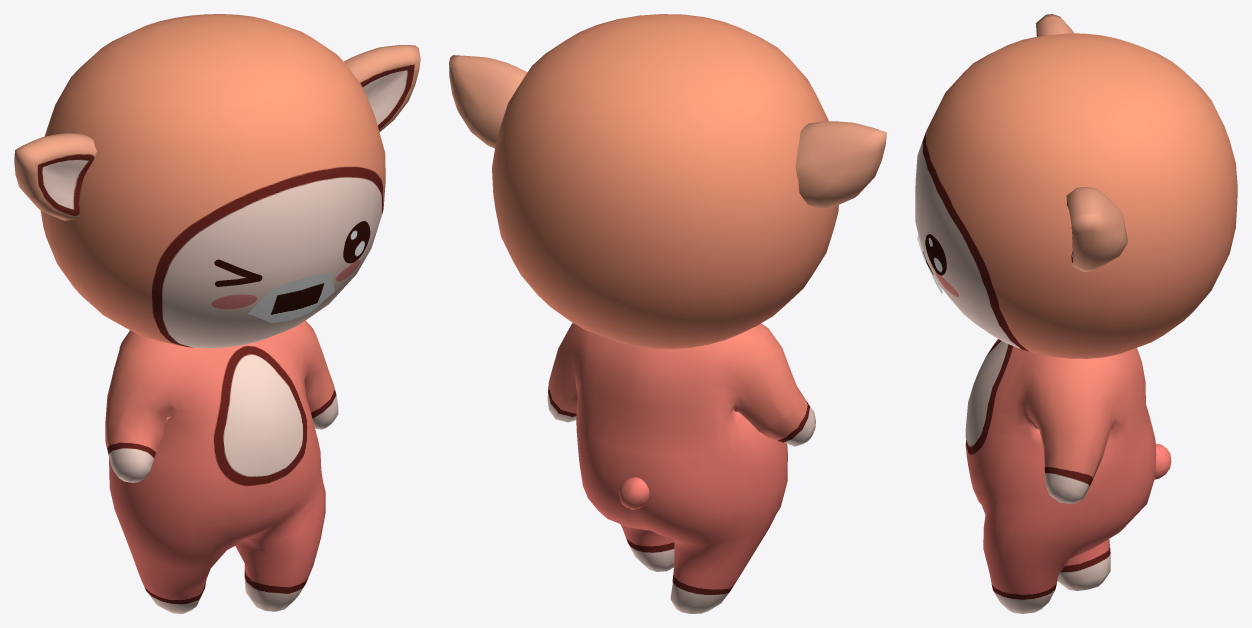
3 views of the same model, side by side, from view 1: azimuth 30°, elevation 25°; view 2: azimuth 150°, elevation 25°; view 3: azimuth 270°, elevation 25° (orthographic). The views are drawn at different scales.
Visible parts, largest first — view 1: DollBody; view 2: DollBody; view 3: DollBody.
Part boxes in pixels (x1,y1,x2,y2): DollBody: (14,14,420,613); DollBody: (449,14,886,613); DollBody: (915,14,1237,613).
Bounding box in the file's own units: 139 × 182 × 96.81.
Materials: 4 (4 with a texture image).
